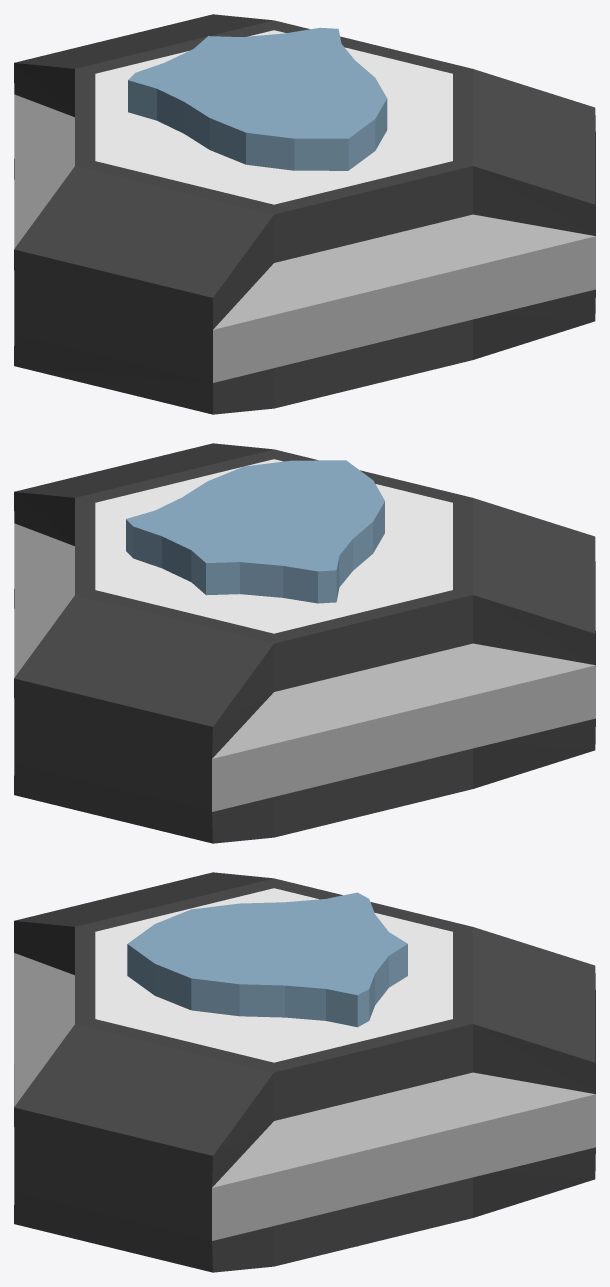
The model's file is ArmorPickup.fbx.
The picture shows the model from 3 angles, top to bottom: view 1: azimuth 30°, elevation 25°; view 2: azimuth 150°, elevation 25°; view 3: azimuth 270°, elevation 25°; orthographic projection.
Visible parts, largest first — view 1: Armor; view 2: Armor; view 3: Armor.
Part boxes in pixels (<box>): Armor: <box>14,14,595,414</box>; Armor: <box>14,443,595,843</box>; Armor: <box>14,872,595,1272</box>.
Size of the model in its own units: 6.27 by 2.59 by 5.44.
Materials: 1 (1 with a texture image).
